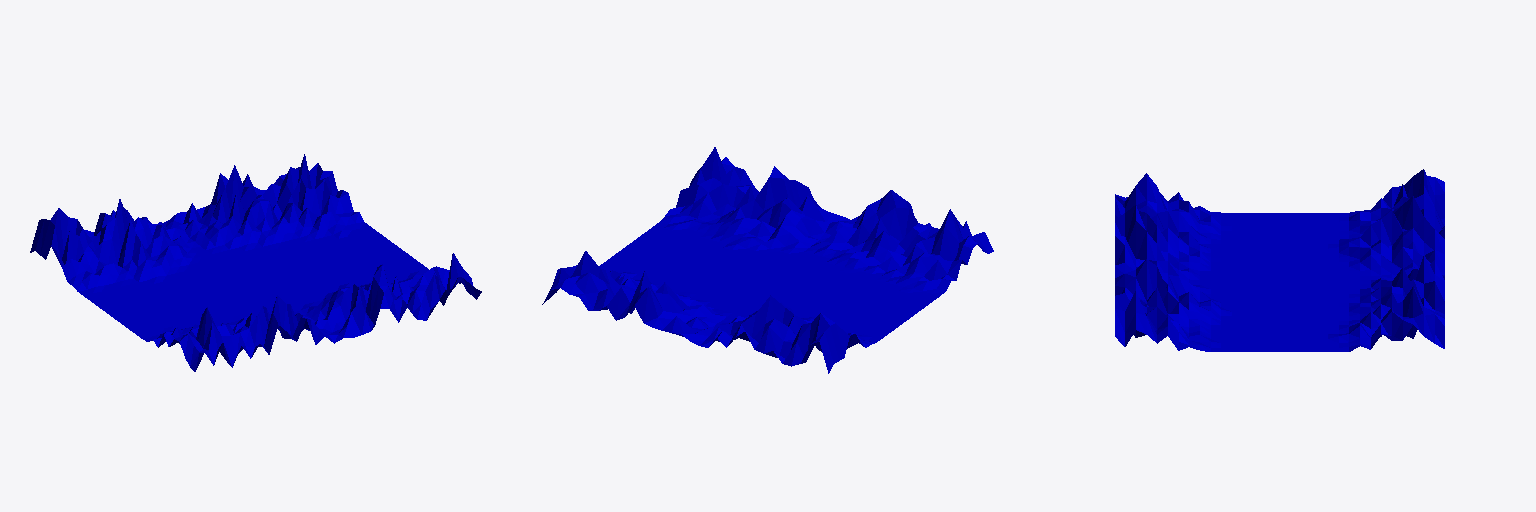
The model's file is mountains.obj.
3 renders of one model, left to right at view 1: azimuth 30°, elevation 25°; view 2: azimuth 150°, elevation 25°; view 3: azimuth 270°, elevation 25°, orthographic.
Visible parts, largest first — view 1: Plane.001; view 2: Plane.001; view 3: Plane.001.
Part boxes in pixels (x1,y1,x2,y2): Plane.001: (30, 154, 481, 371); Plane.001: (542, 147, 993, 373); Plane.001: (1115, 169, 1444, 351).
Bounding box in the file's own units: 16 × 2.83 × 16.